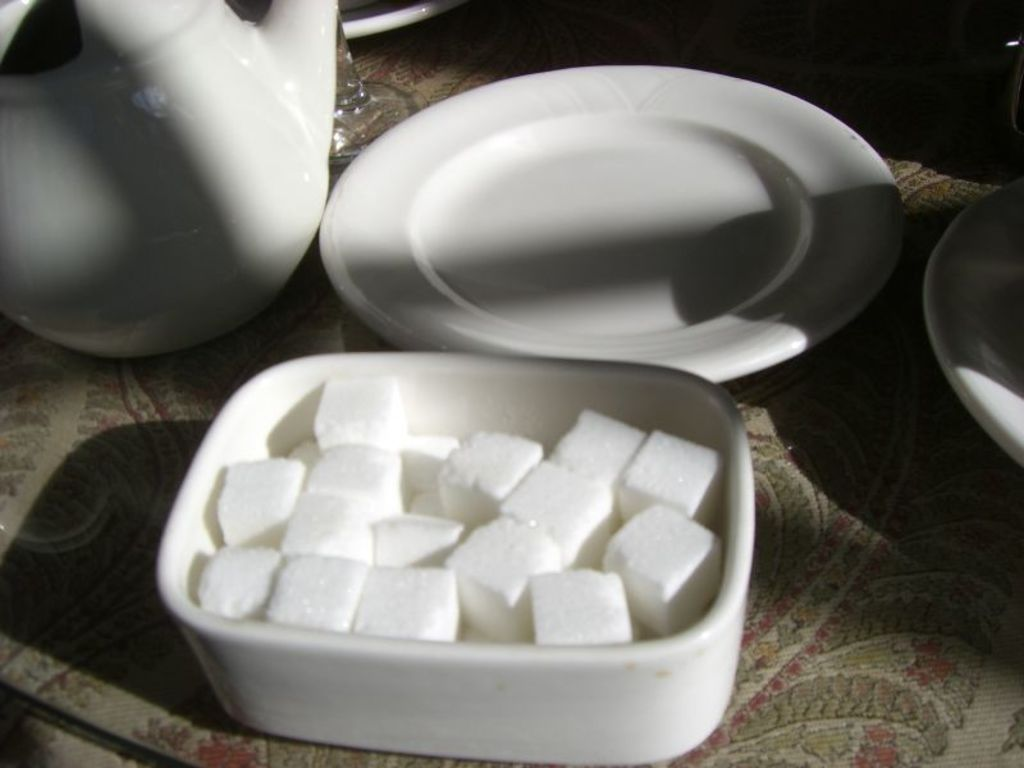plate: (284, 71, 907, 359)
